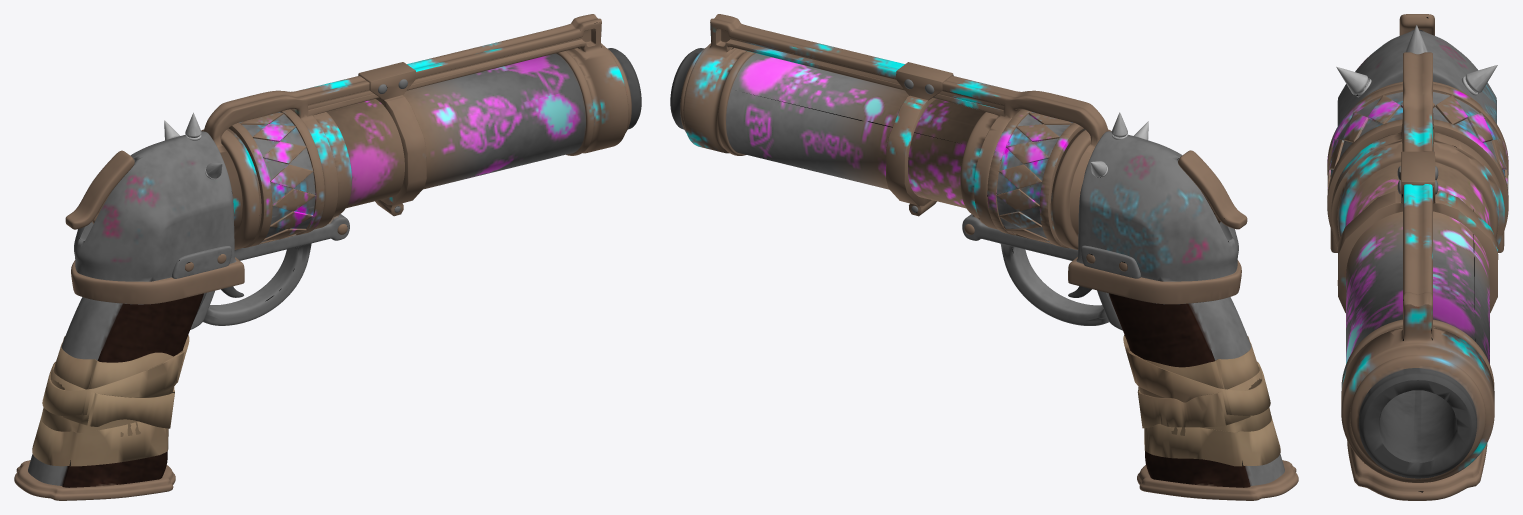
The model's file is textured-revolver.glb.
The picture shows the model from 3 angles, left to right: view 1: azimuth 30°, elevation 25°; view 2: azimuth 150°, elevation 25°; view 3: azimuth 270°, elevation 25°; orthographic projection. The views are drawn at different scales.
Visible parts, largest first — view 1: Koni.003-web; view 2: Koni.003-web; view 3: Koni.003-web.
Part boxes in pixels (x1,y1,x2,y2): Koni.003-web: (14, 14, 641, 500); Koni.003-web: (670, 14, 1298, 500); Koni.003-web: (1327, 14, 1508, 500).
Bounding box in the file's own units: 2 × 1.13 × 0.3752.
11 materials, 11 textured.
